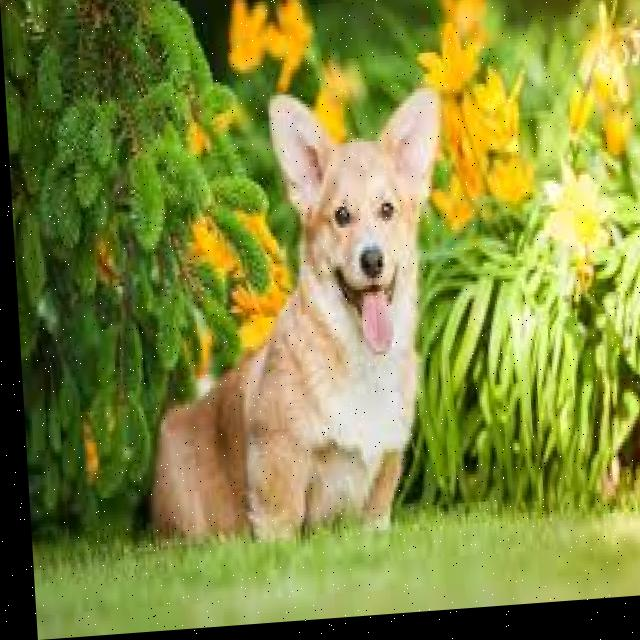CORGI: (108, 58, 467, 571)
